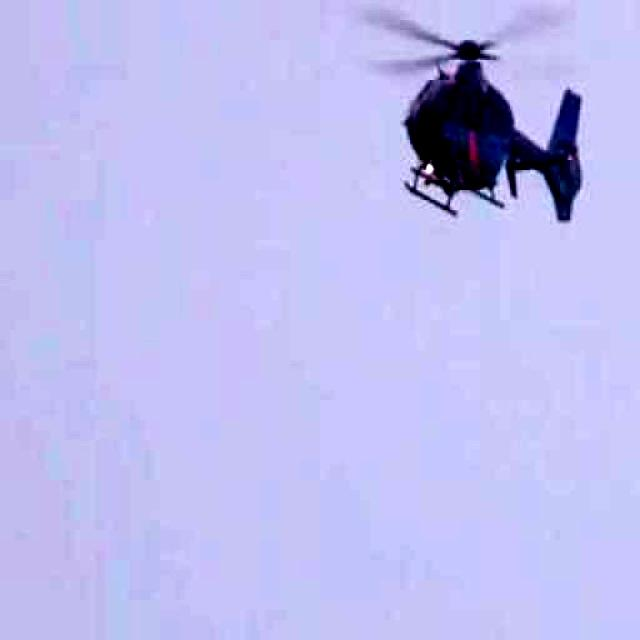drone: (321, 0, 635, 256)
